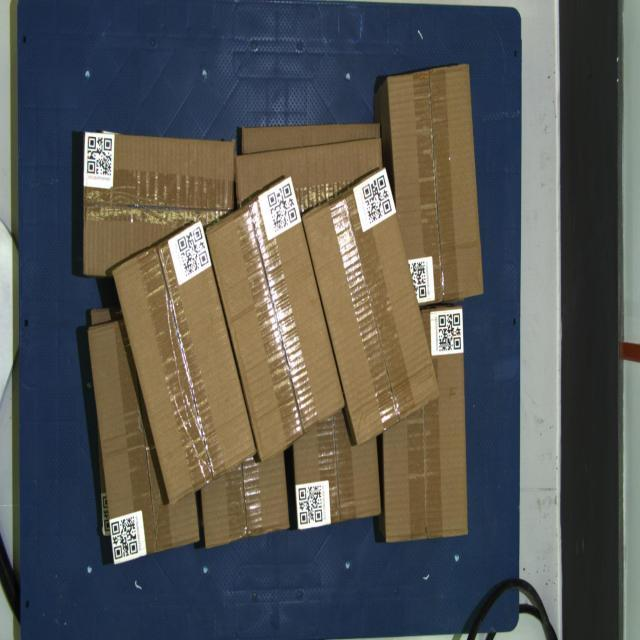box: (112, 219, 257, 507), (205, 174, 346, 463), (302, 166, 441, 447), (388, 63, 484, 306)
